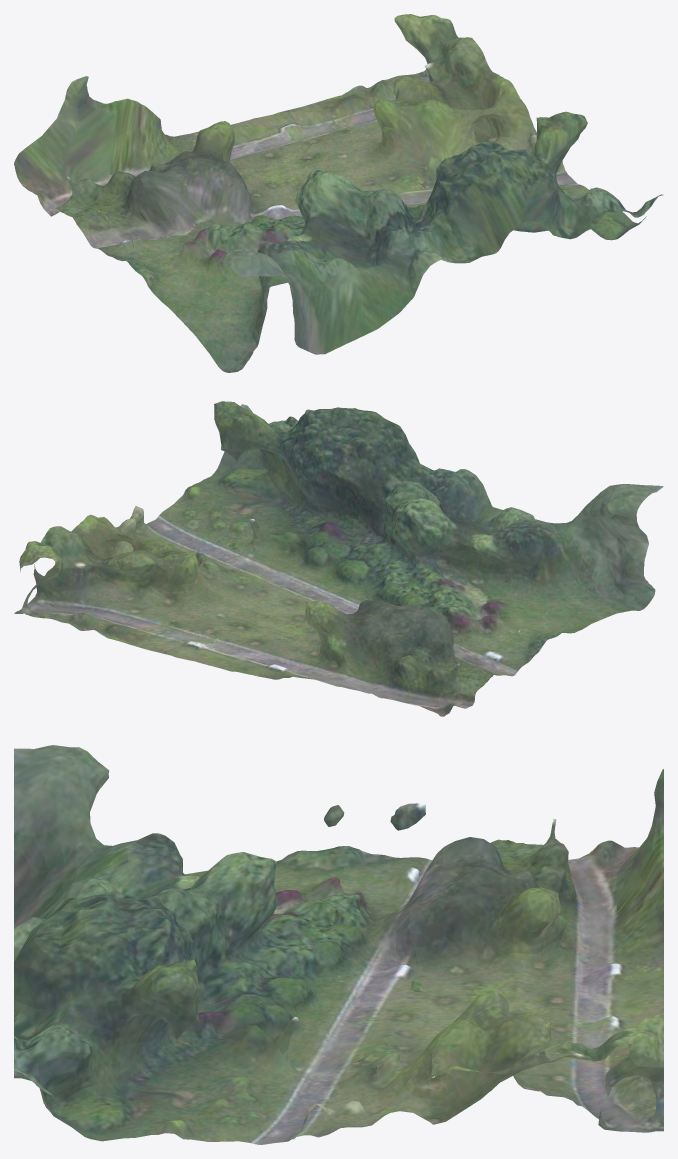
The model's file is Tile__002__000_L22_00000000.glb.
3 views of the same model, one above another, from view 1: azimuth 30°, elevation 25°; view 2: azimuth 150°, elevation 25°; view 3: azimuth 270°, elevation 25° (orthographic). The views are drawn at different scales.
Visible parts, largest first — view 1: root; view 2: root; view 3: root.
Part boxes in pixels (<box>): root: <box>14,14,663,372</box>; root: <box>14,401,663,716</box>; root: <box>14,745,663,1144</box>.
Size of the model in its own units: 25.59 by 8.07 by 23.98.
1 material, 1 textured.
